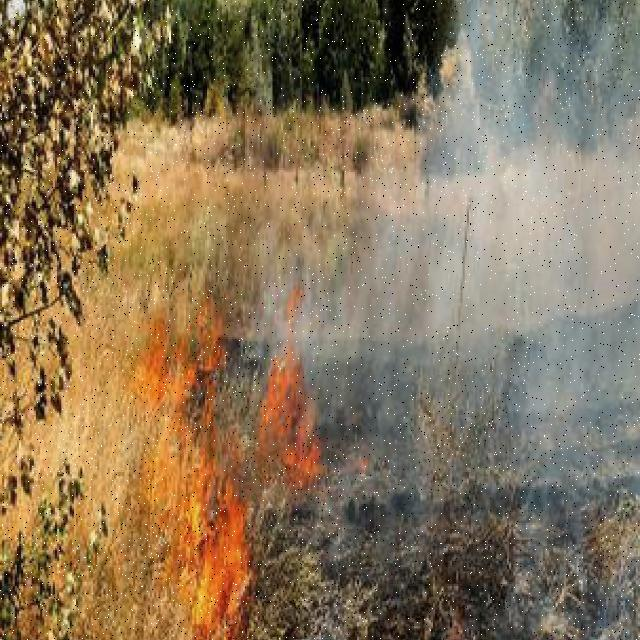fire: (144, 284, 238, 628), (258, 308, 319, 498)
smoke: (290, 0, 640, 528)
